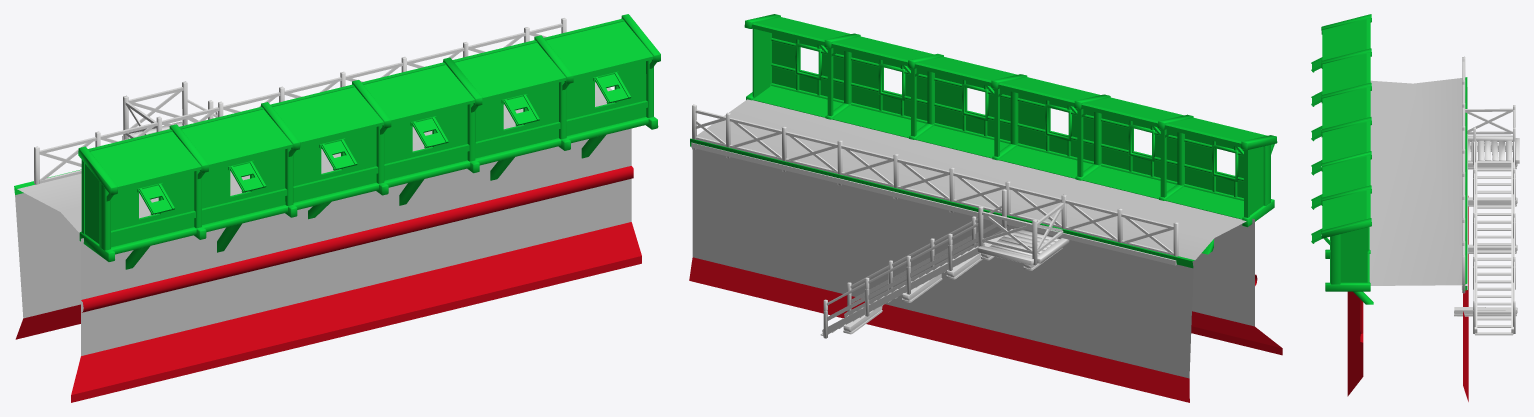
Rendered from Wall_4v2 (1).fbx.
3 renders of one model, left to right at view 1: azimuth 30°, elevation 25°; view 2: azimuth 150°, elevation 25°; view 3: azimuth 270°, elevation 25°, orthographic. The views are drawn at different scales.
Parts seen in each view (by area): view 1: Group_4.015, Group_4.028, Group_3.012, Group_3.013, Group_4.013, Group_4.012, Group_4.007, Group_4.035, Group_4.011, Group_4.010; view 2: Group_4.015, Group_4.028, Group_3.012, Group_3.013, Group_3.011; view 3: Group_4.015, Group_4.028, Group_3.013, Group_3.012.
Boxes of the visible parts, <box> form: Group_4.015: <box>14,82,641,402</box>; Group_4.028: <box>78,14,660,269</box>; Group_3.012: <box>34,18,566,184</box>; Group_3.013: <box>121,81,217,140</box>; Group_4.013: <box>503,94,539,126</box>; Group_4.012: <box>412,117,448,148</box>; Group_4.007: <box>138,183,174,214</box>; Group_4.035: <box>595,72,630,103</box>; Group_4.011: <box>321,139,357,170</box>; Group_4.010: <box>230,161,266,192</box>; Group_4.015: <box>689,99,1282,402</box>; Group_4.028: <box>744,14,1277,254</box>; Group_3.012: <box>691,104,1178,265</box>; Group_3.013: <box>820,189,1069,338</box>; Group_3.011: <box>1007,186,1063,238</box>; Group_4.015: <box>1347,77,1468,401</box>; Group_4.028: <box>1321,14,1373,304</box>; Group_3.013: <box>1454,105,1519,335</box>; Group_3.012: <box>1461,56,1467,293</box>.
Size of the model in its own units: 1937 by 769 by 793.
